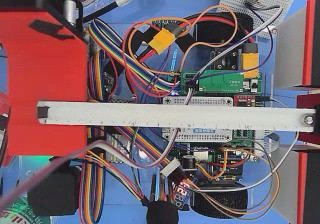ironball: (302, 115, 314, 124)
